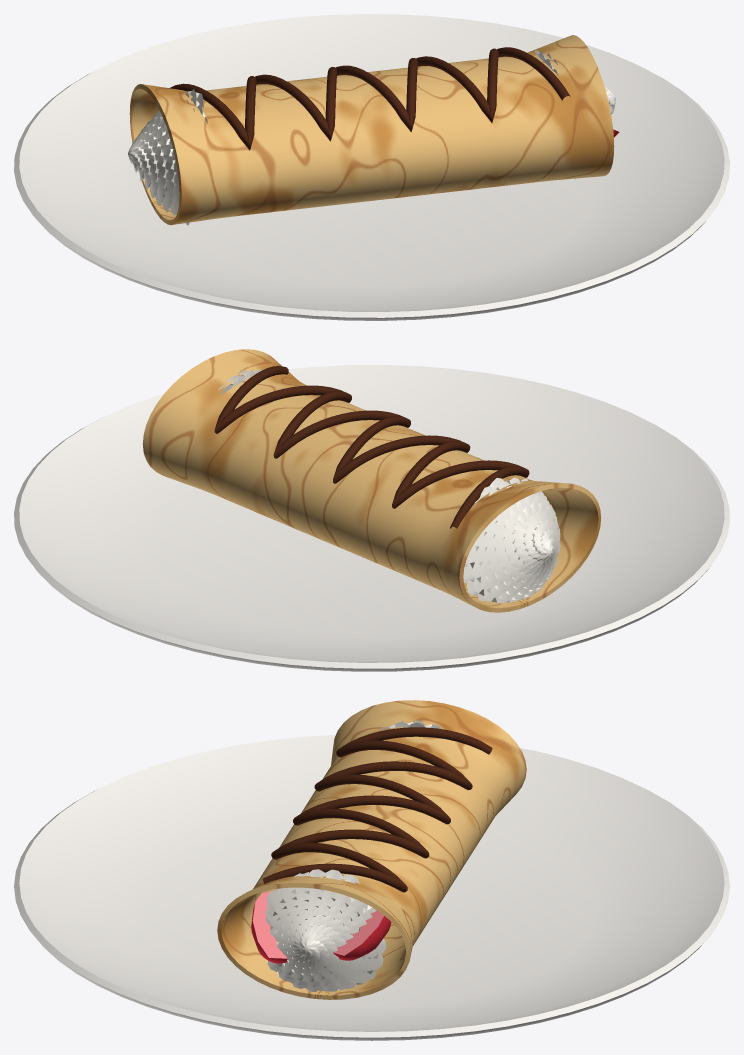
The model's file is Crepe_Plate.fbx.
3 views of the same model, one above another, from view 1: azimuth 30°, elevation 25°; view 2: azimuth 150°, elevation 25°; view 3: azimuth 270°, elevation 25° (orthographic).
Parts seen in each view (by area): view 1: Crepe_Plate; view 2: Crepe_Plate; view 3: Crepe_Plate.
Part boxes in pixels (box(x1,y1,x2,y2)): Crepe_Plate: box(14, 14, 729, 320); Crepe_Plate: box(14, 349, 729, 671); Crepe_Plate: box(14, 700, 729, 1040).
Bounding box in the file's own units: 0.24 × 0.052 × 0.24.
Materials: 6 (1 with a texture image).
